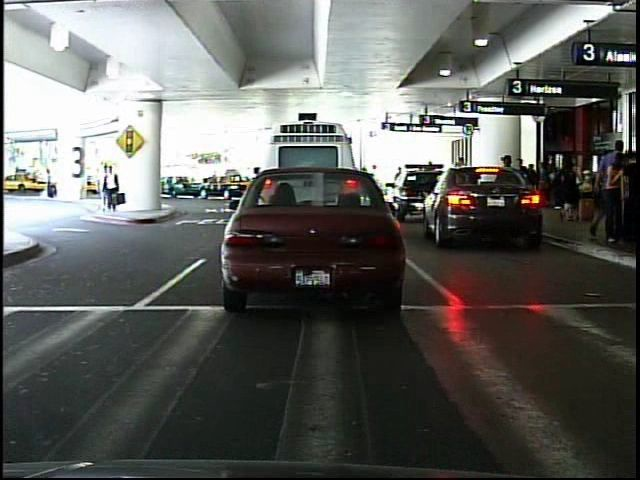person: (95, 157, 130, 214), (45, 164, 61, 203)
